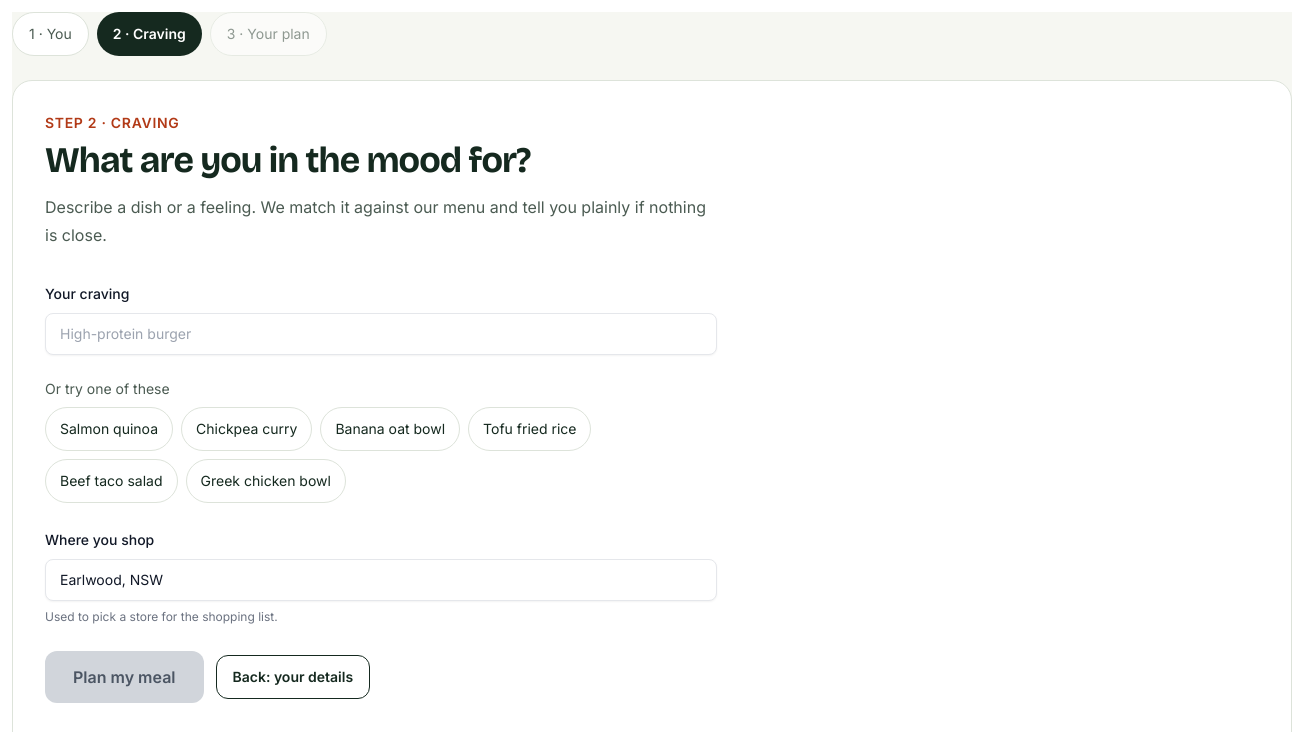
Shopping list › shows its empty state for an empty list, with no total or note
The width and height of the screenshot is (1304, 732).
Type "chicken fried rice" into the field labelled "Your craving" at (381, 334), box 45,313 -> 717,355
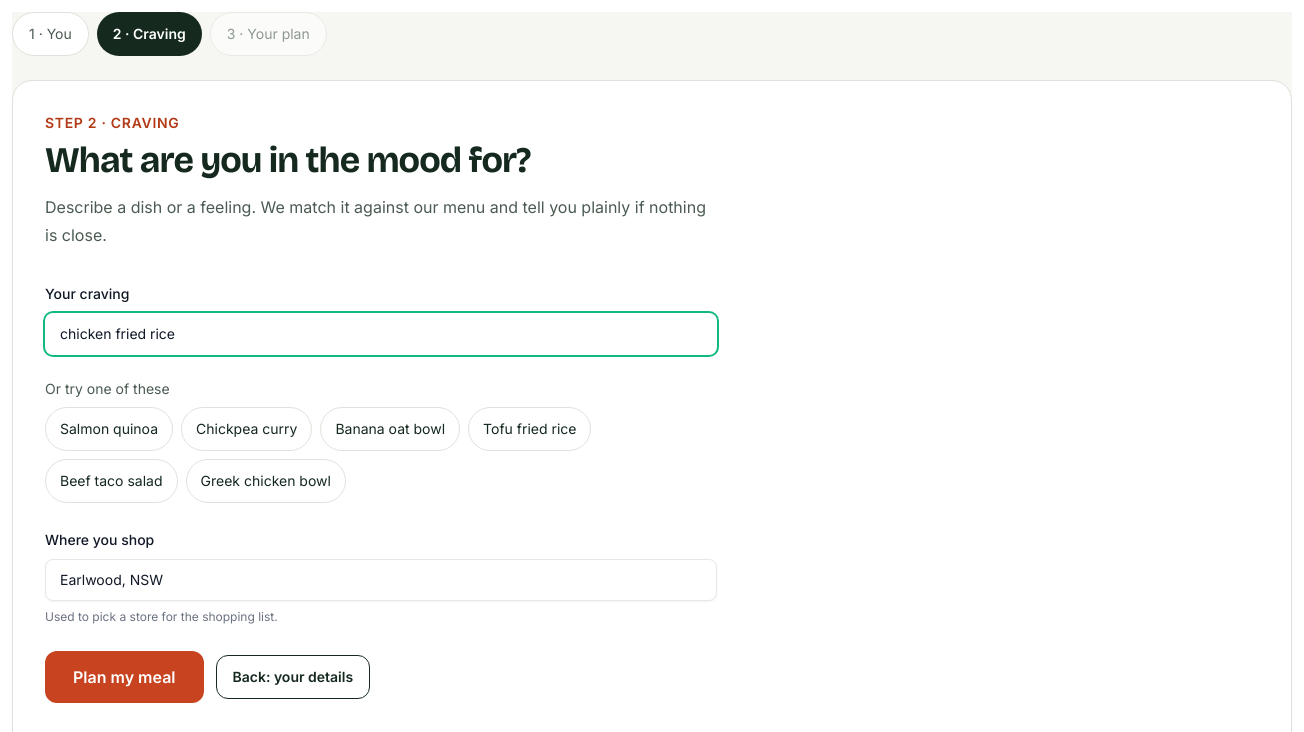
Click the button "Plan my meal" at (124, 677), box 45,651 -> 204,703
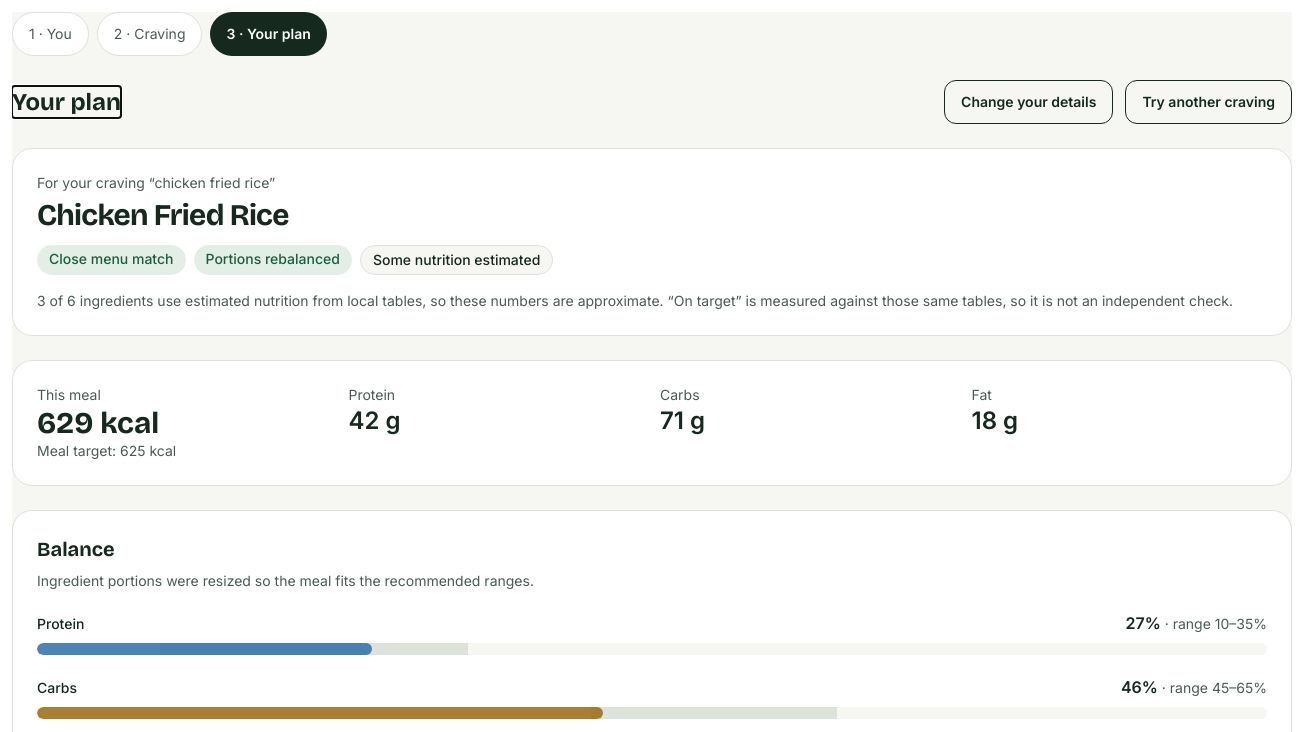
Check: the element "chicken fried rice" is shown, box 12,148 -> 1292,336
